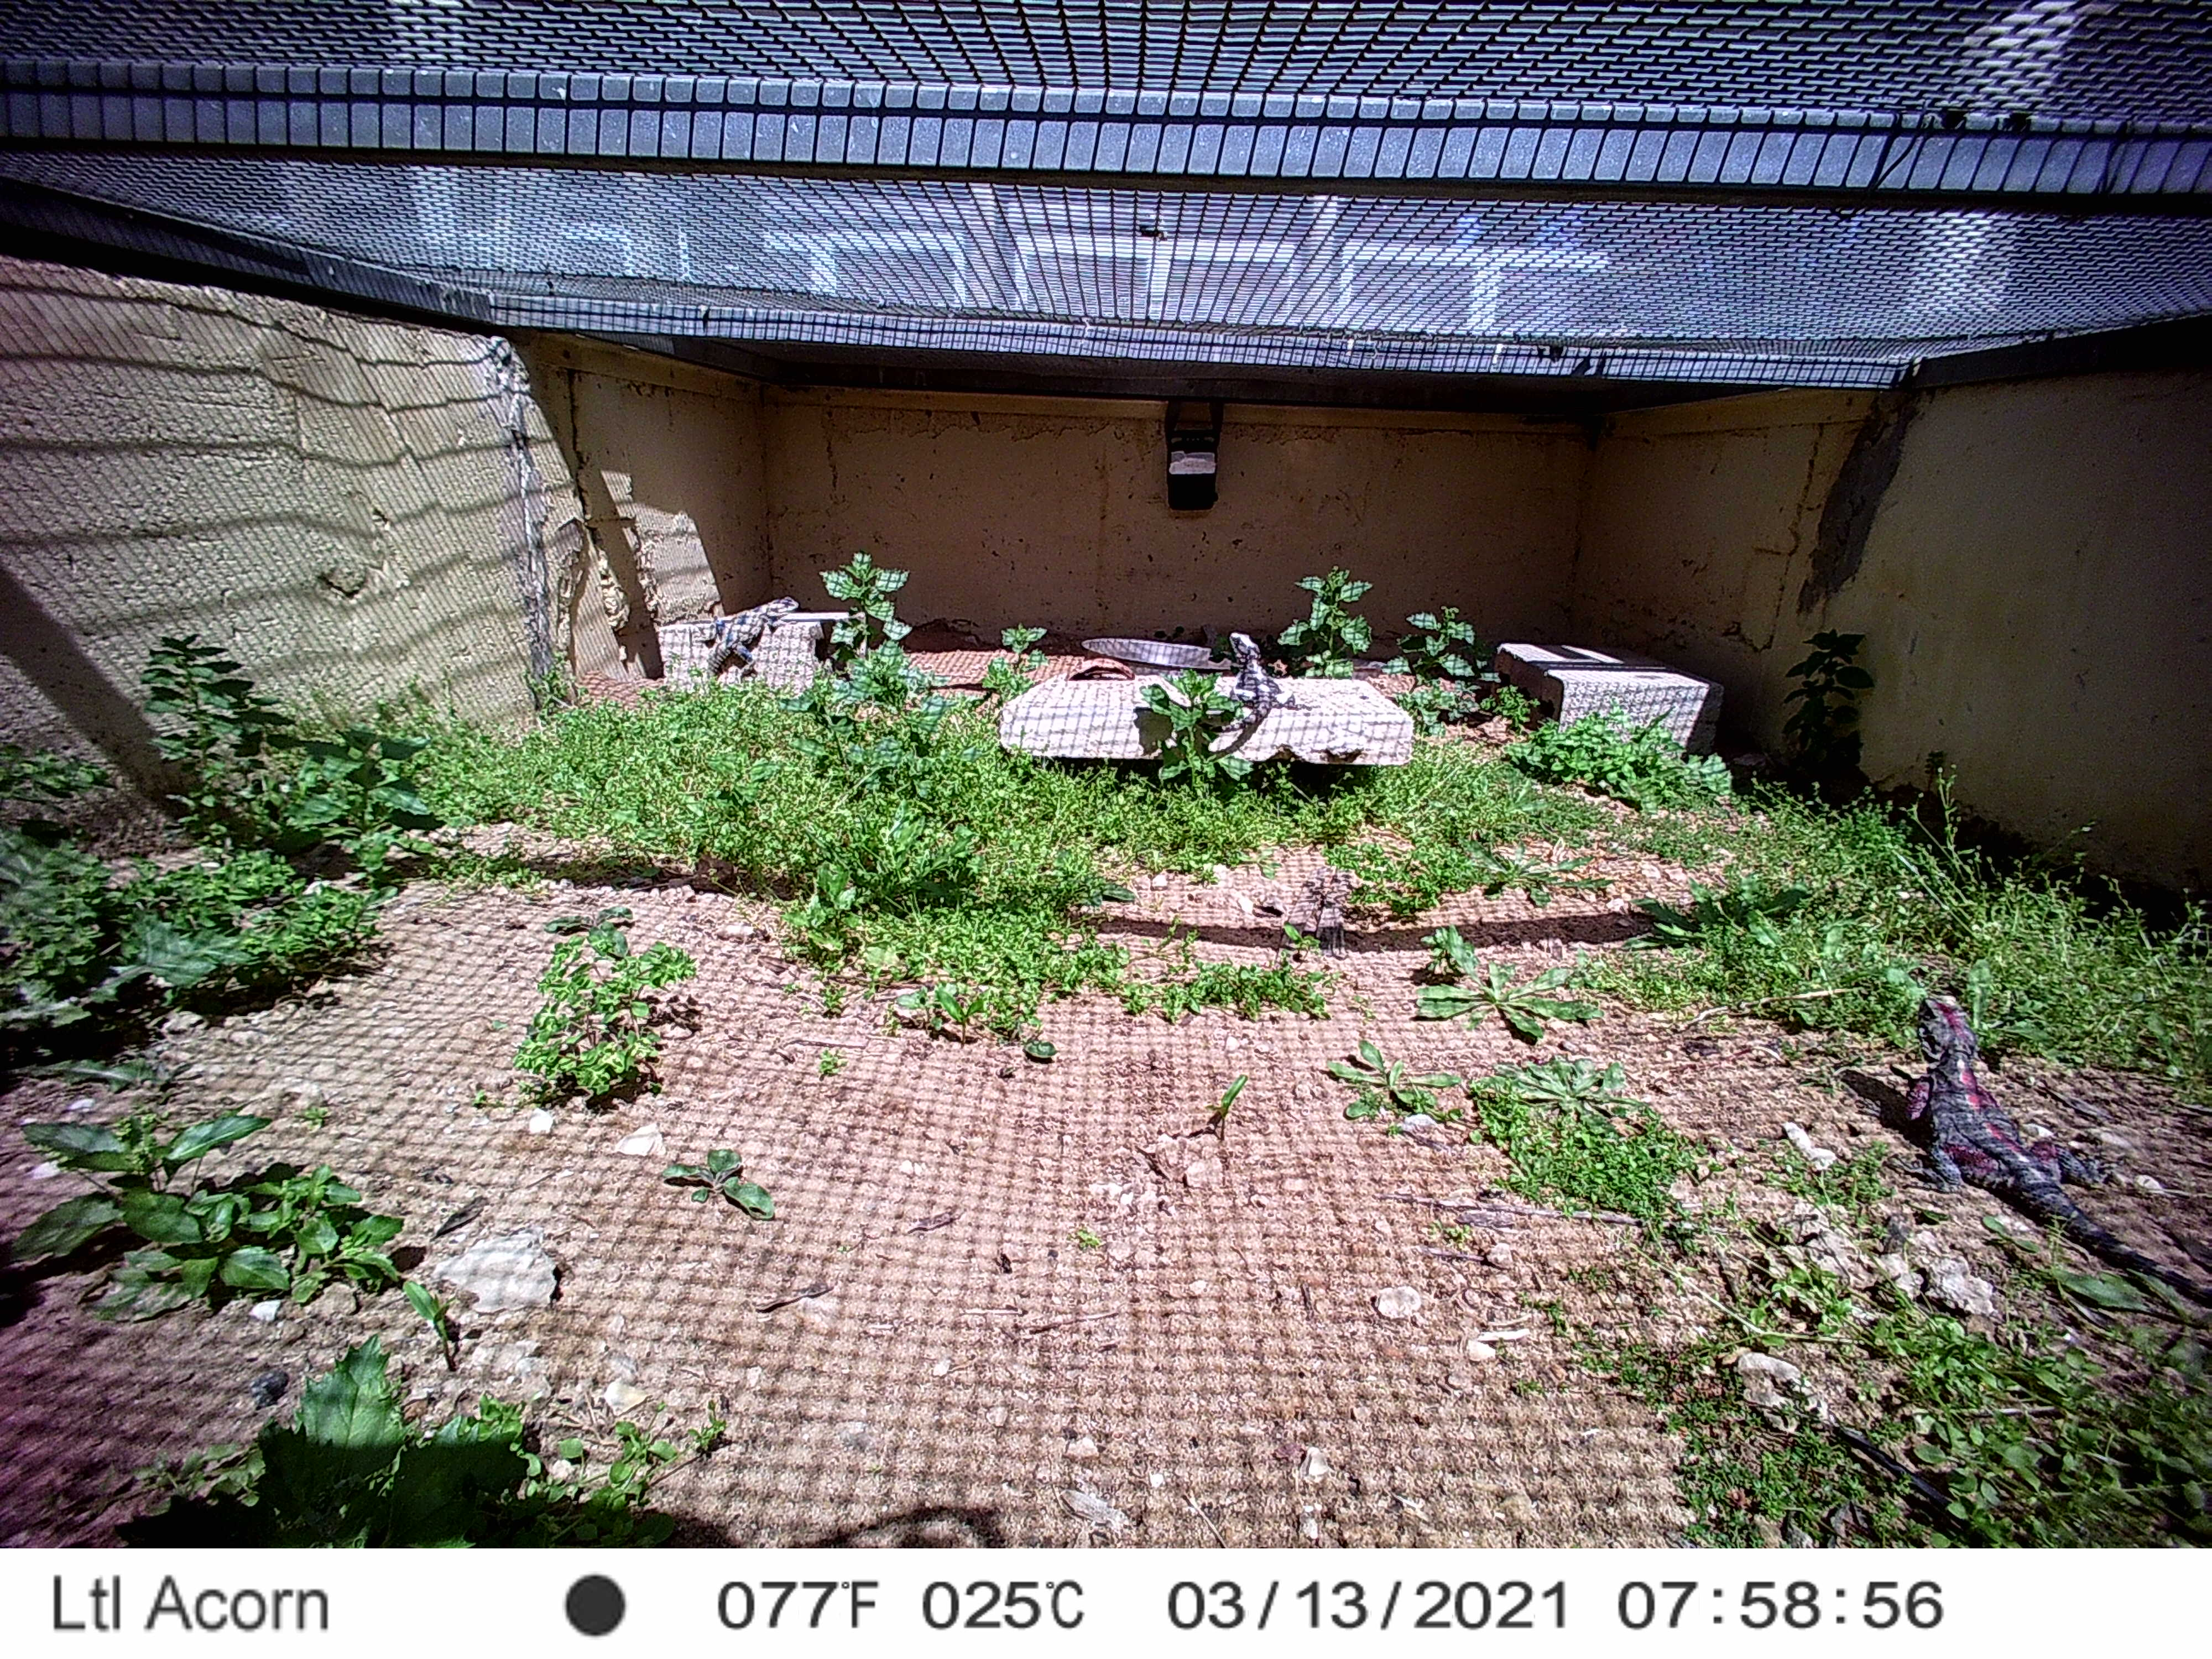lizard: (1867, 992, 2212, 1323), (1188, 629, 1294, 772), (681, 594, 798, 685)
